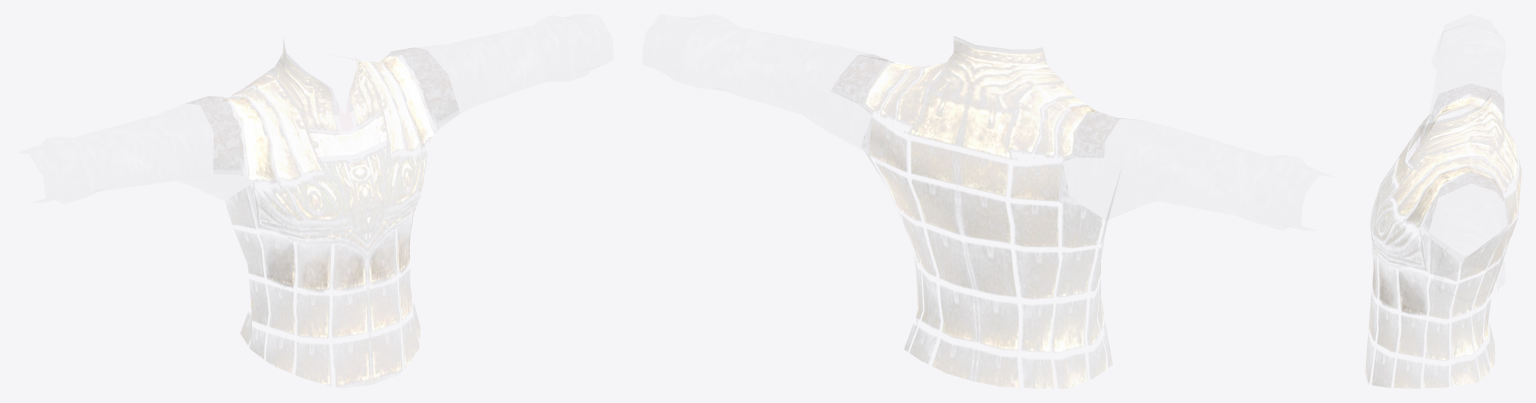
Rendered from heavy_03_ba.glb.
3 renders of one model, left to right at view 1: azimuth 30°, elevation 25°; view 2: azimuth 150°, elevation 25°; view 3: azimuth 270°, elevation 25°, orthographic. The views are drawn at different scales.
Parts seen in each view (by area): view 1: heavy_03_ba; view 2: heavy_03_ba; view 3: heavy_03_ba.
Boxes of the visible parts, x1,y1,x2,y2 form: heavy_03_ba: (186,39,459,386); heavy_03_ba: (831,36,1131,388); heavy_03_ba: (1365,84,1521,388).
Bounding box in the file's own units: 1.05 × 0.5433 × 0.2754.
Materials: 1 (1 with a texture image).
